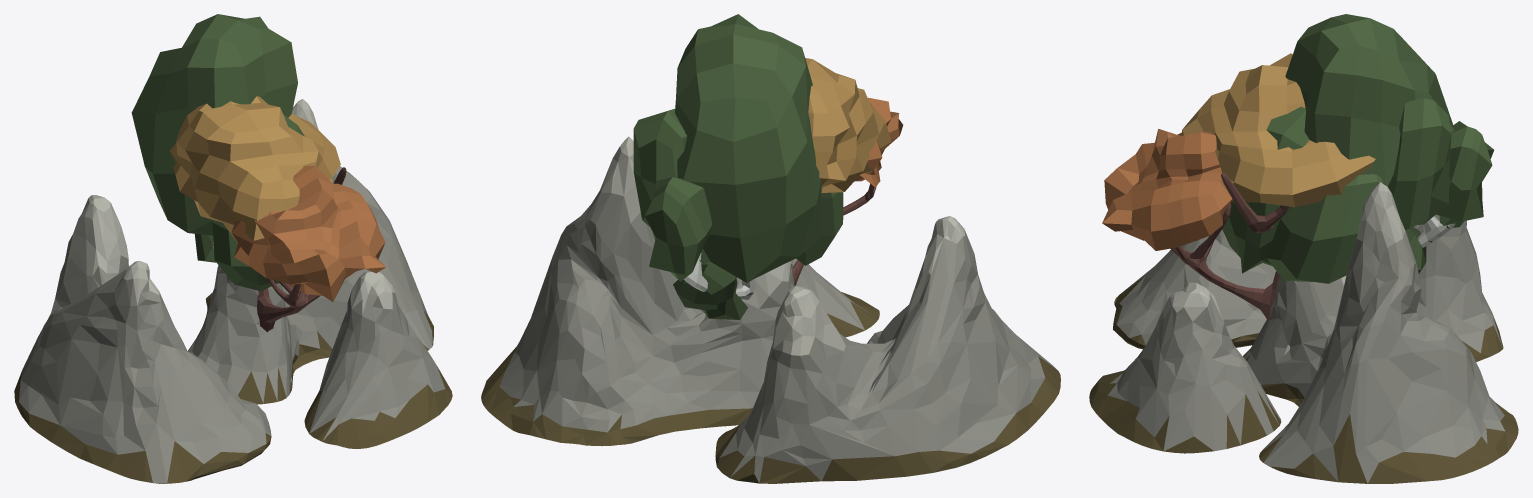
File: kit.glb
3 views of the same model, side by side, from view 1: azimuth 30°, elevation 25°; view 2: azimuth 150°, elevation 25°; view 3: azimuth 270°, elevation 25° (orthographic). The views are drawn at different scales.
Visible parts, largest first — view 1: Mountain_Group_1, CommonTree_Autumn_2, BirchTree_1; view 2: Mountain_Group_1, BirchTree_1, CommonTree_Autumn_2; view 3: Mountain_Group_1, BirchTree_1, CommonTree_Autumn_2.
Boxes of the visible parts, x1,y1,x2,y2 form: Mountain_Group_1: [14, 99, 452, 483]; CommonTree_Autumn_2: [169, 96, 385, 332]; BirchTree_1: [131, 14, 304, 291]; Mountain_Group_1: [481, 136, 1060, 483]; BirchTree_1: [633, 14, 843, 319]; CommonTree_Autumn_2: [792, 58, 903, 285]; Mountain_Group_1: [1089, 182, 1518, 483]; BirchTree_1: [1222, 14, 1493, 355]; CommonTree_Autumn_2: [1102, 53, 1375, 321].
Size of the model in its own units: 4.59 by 3.65 by 3.84.
